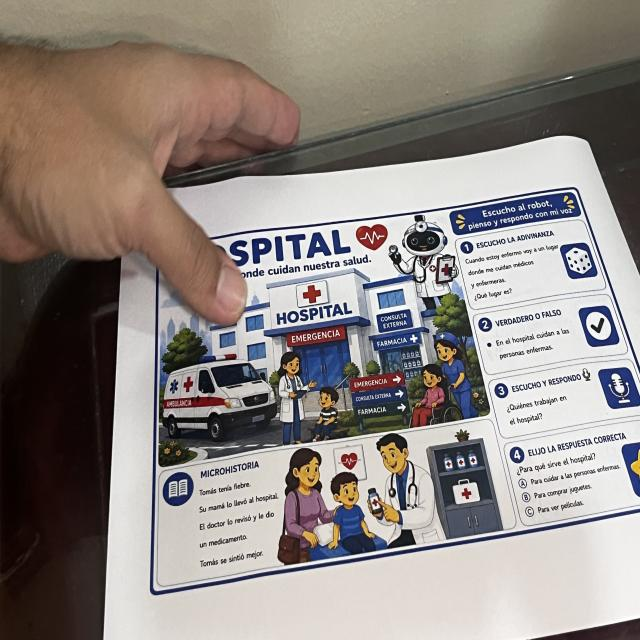hospital: (147, 182, 640, 599)
